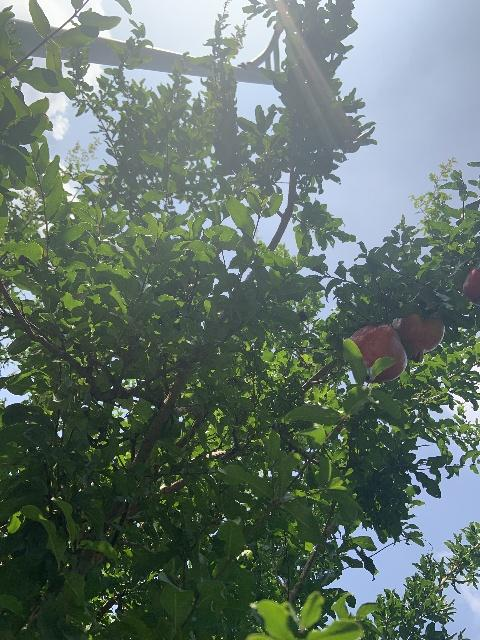ripe: (349, 323, 407, 383), (391, 313, 444, 362)
